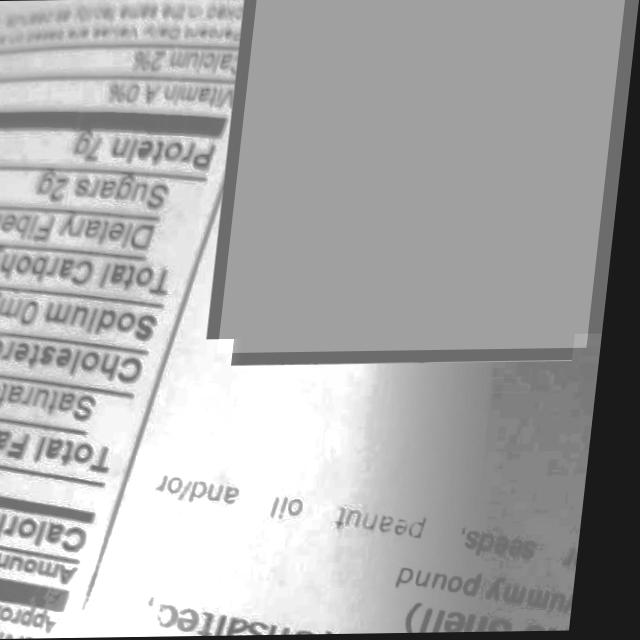qr_code: (226, 0, 626, 353)
